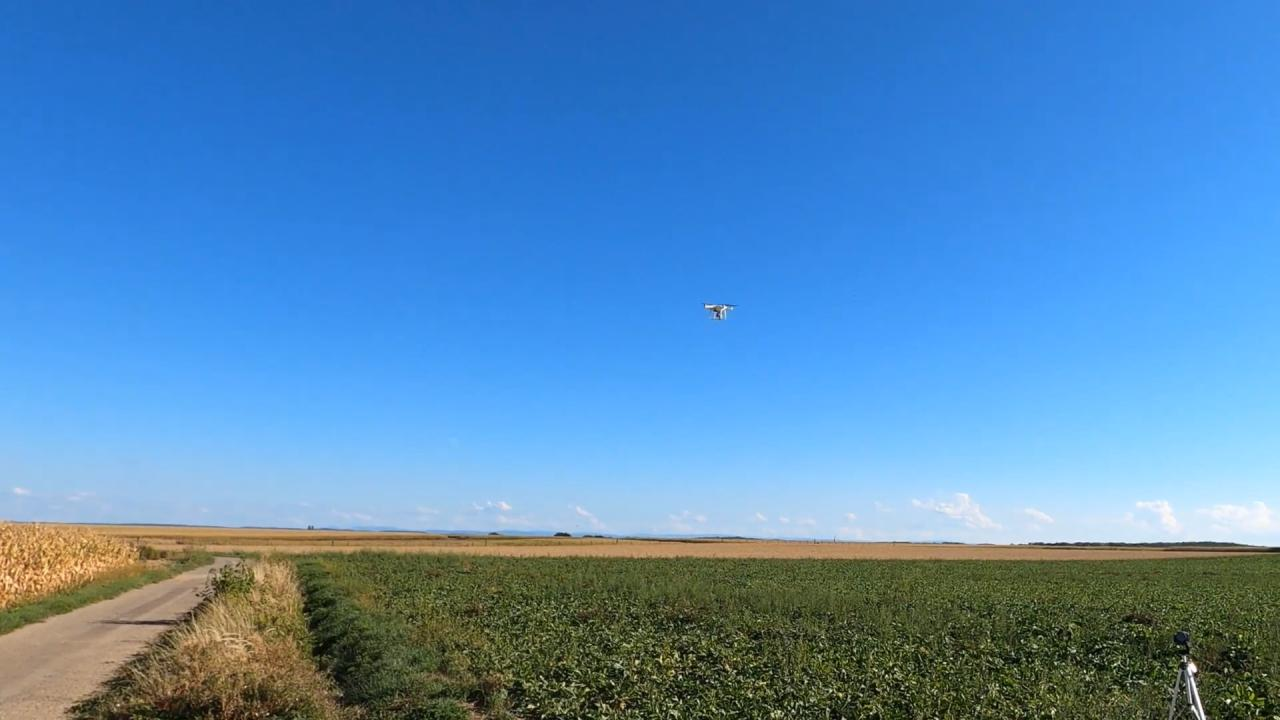Drone: (695, 297, 744, 327)
